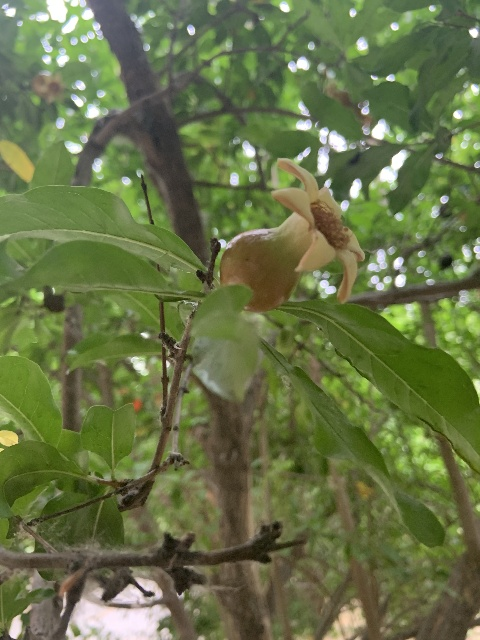early-fruit: (219, 157, 365, 313)
